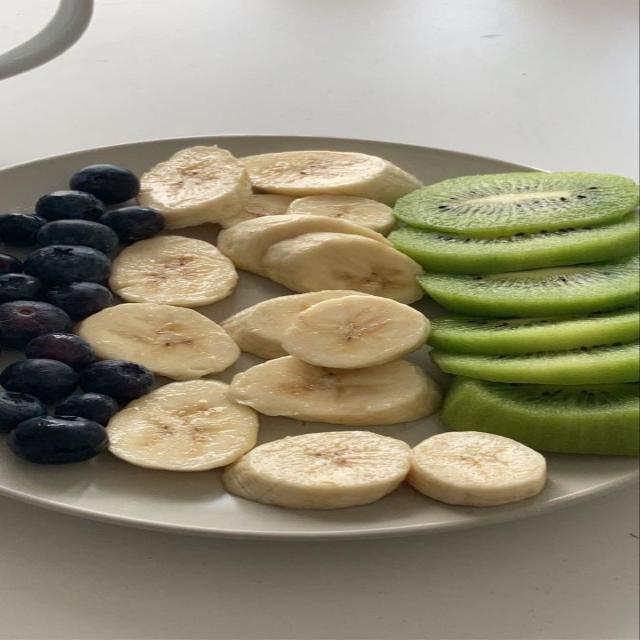banana slice: (231, 356, 441, 427), (223, 431, 409, 509), (108, 379, 259, 471), (76, 303, 239, 380), (263, 233, 422, 303), (283, 295, 430, 369), (218, 214, 392, 275), (407, 431, 545, 506), (221, 290, 368, 359), (240, 150, 422, 205), (137, 146, 251, 228), (109, 235, 237, 308), (286, 195, 395, 235), (221, 195, 295, 228)
blueberry: (108, 380, 259, 471), (8, 416, 108, 463), (24, 245, 110, 285), (0, 359, 78, 403), (0, 301, 73, 347), (80, 360, 154, 402), (70, 165, 140, 204), (36, 220, 118, 253), (25, 333, 97, 370), (45, 282, 112, 319), (100, 206, 164, 242), (55, 392, 118, 425), (36, 191, 105, 221), (0, 392, 46, 431), (0, 213, 46, 245), (0, 274, 42, 303), (0, 254, 22, 273)
kiwi: (394, 172, 637, 238), (440, 376, 639, 455), (388, 212, 639, 274), (416, 254, 639, 317), (428, 305, 638, 355), (431, 339, 639, 385)
